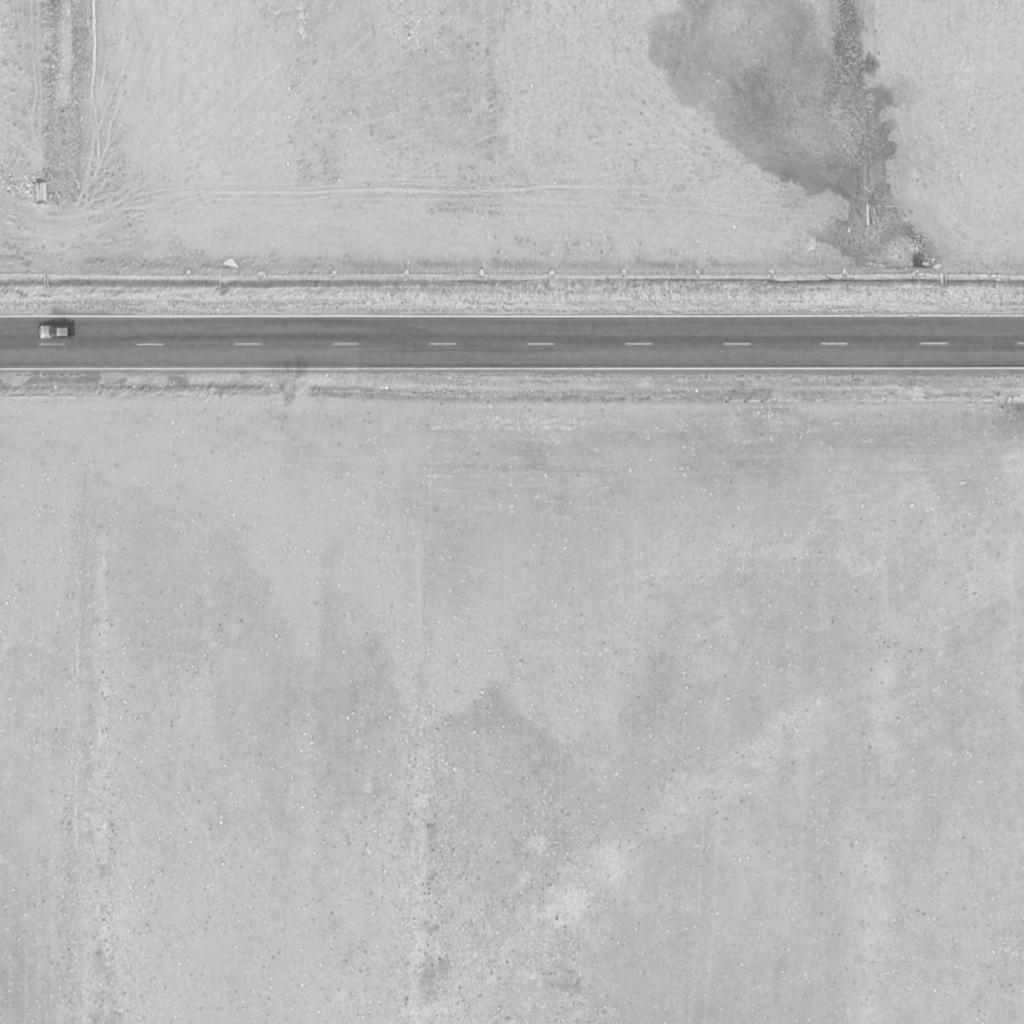vehicle: (37, 324, 71, 340)
